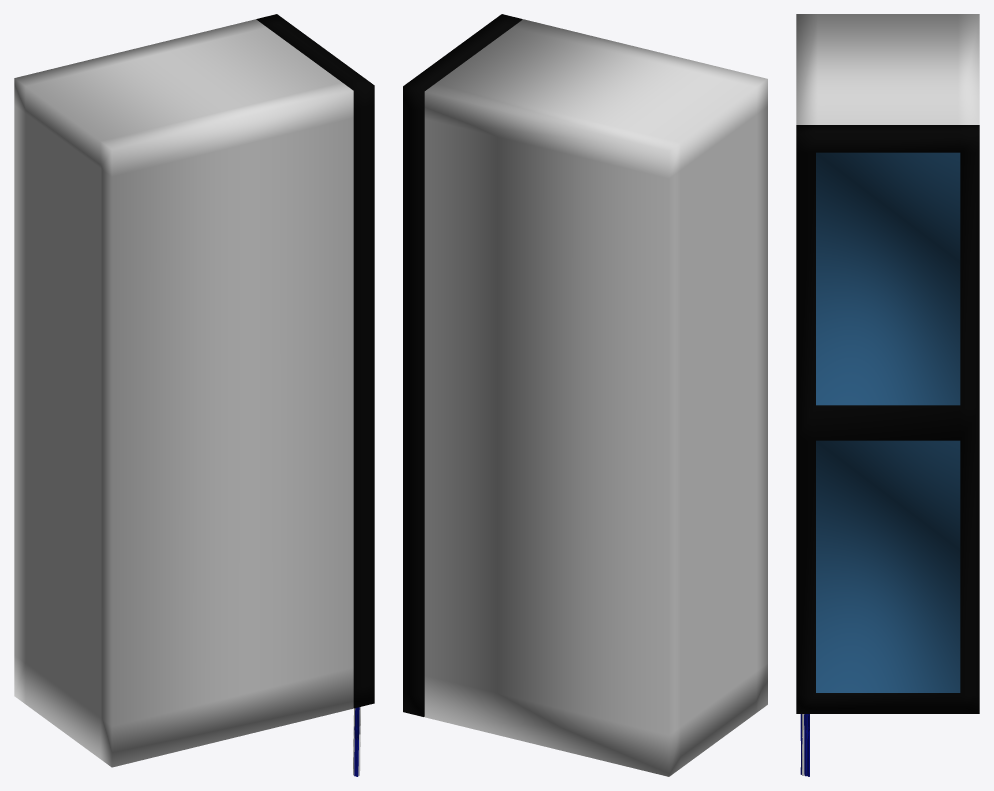
The model's file is Server_01.fbx.
3 renders of one model, left to right at view 1: azimuth 30°, elevation 25°; view 2: azimuth 150°, elevation 25°; view 3: azimuth 270°, elevation 25°, orthographic. The views are drawn at different scales.
Parts seen in each view (by area): view 1: Server-Cabinet_01, Server-Cabinet-Door_01; view 2: Server-Cabinet_01, Server-Cabinet-Door_01; view 3: Server-Cabinet-Door_01, Server-Cabinet_01, Server-Rack-ExtraCables_01.
Part boxes in pixels (x1,y1,x2,y2): Server-Cabinet_01: (14, 19, 353, 767); Server-Cabinet-Door_01: (256, 14, 374, 708); Server-Cabinet_01: (424, 19, 767, 776); Server-Cabinet-Door_01: (403, 14, 522, 716); Server-Cabinet-Door_01: (796, 125, 979, 713); Server-Cabinet_01: (796, 14, 979, 124); Server-Rack-ExtraCables_01: (800, 728, 809, 776).
Bounding box in the file's own units: 0.979 × 2.45 × 0.6303.
